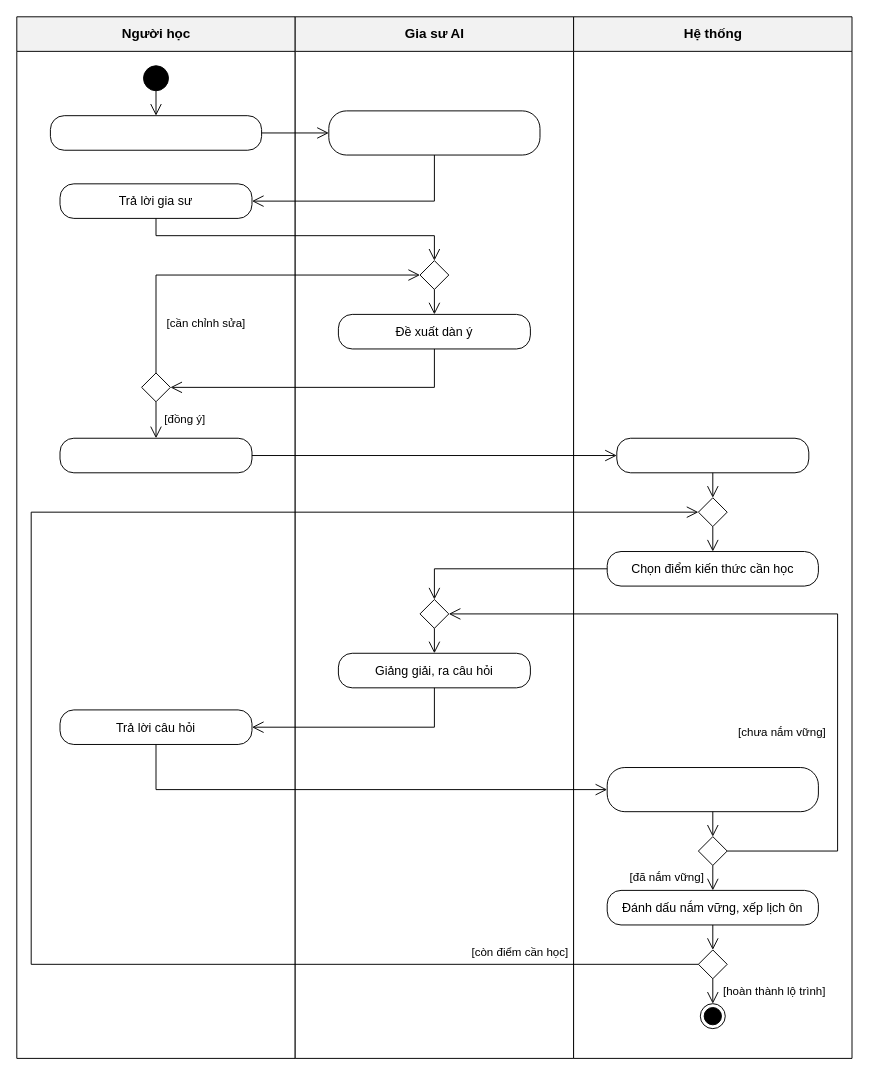
Image size: 869x1075. Some labels were removed from this diagram. The shapes that lost their labels are listed below. From the top down, each one's centre as x and y in pixels, then its label:
At point (155, 132): "Nêu mục tiêu, chọn tài liệu nếu có".
At point (434, 132): "Hỏi về kiến thức đã có, mức muốn đạt, thời gian có".
At point (155, 455): "Chốt dàn ý".
At point (712, 455): "Lưu lộ trình".
At point (712, 789): "Đánh giá câu trả lời, cập nhật mức nắm vững".
